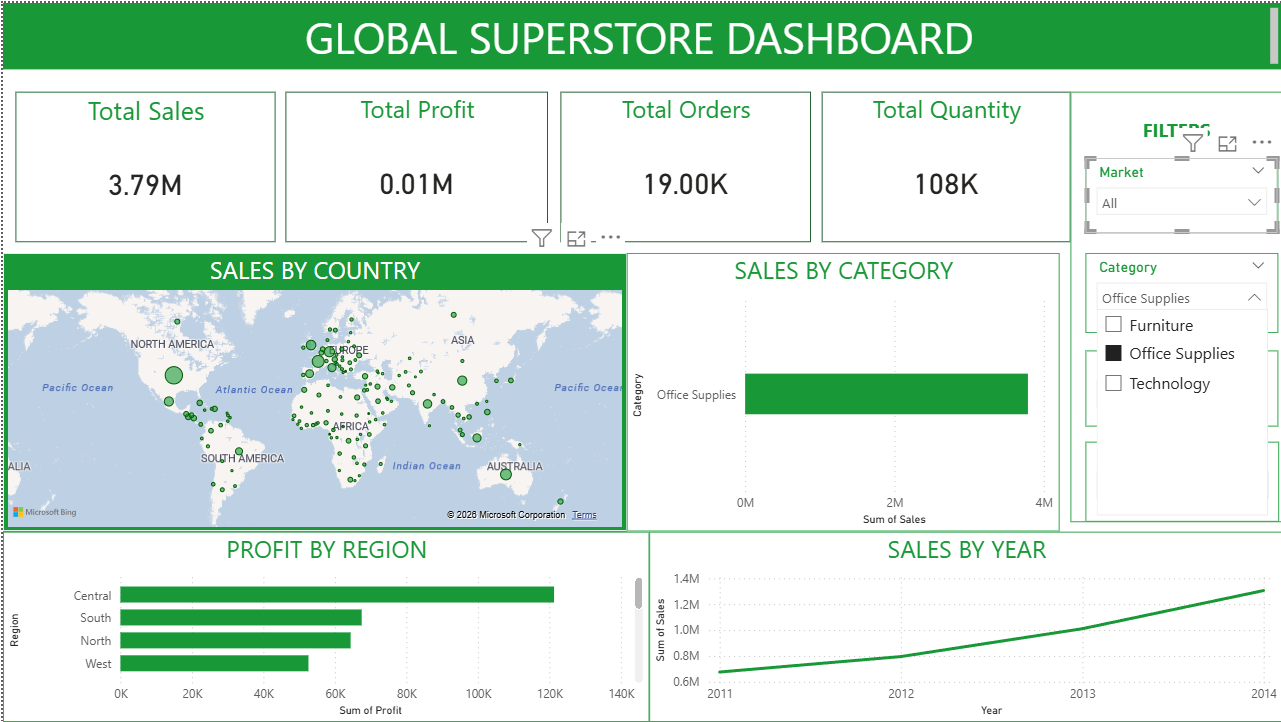

The page's visual inventory and layout, read from the dashboard file:
{"tool":"powerbi","page":{"name":"Page 1","canvas":[1280,720],"ordinal":0},"visuals":[{"type":"card","title":"Total Sales","fields":{"Values":["Sum(Global_Superstore_Cleaned.Sales)"]},"box":[12.5,88.8,260,150],"z":0},{"type":"card","title":"Total Profit","fields":{"Values":["Count(Global_Superstore_Cleaned.Profit)"]},"box":[282.5,88.8,262.5,150],"z":1000},{"type":"card","title":"Total Orders","fields":{"Values":["Count(Global_Superstore_Cleaned.Order ID)"]},"box":[557.5,88.8,250,150],"z":2000},{"type":"card","title":"Total Quantity","fields":{"Values":["Sum(Global_Superstore_Cleaned.Quantity)"]},"box":[818.8,88.8,248.8,150],"z":3000},{"type":"textbox","box":[12.5,303.8,1267.5,87.5],"z":4000},{"type":"textbox","box":[12.5,487.5,1267.5,82.5],"z":5000},{"type":"textbox","box":[0,0,1280,66.2],"z":6000},{"type":"map","title":"SALES BY COUNTRY","fields":{"Category":["Global_Superstore_Cleaned.Country"],"Size":["Sum(Global_Superstore_Cleaned.Sales)"]},"box":[0,250,623.8,278.8],"z":7000},{"type":"textbox","title":"TITLE","box":[1067.5,88.8,212.5,430],"z":8000},{"type":"slicer","fields":{"Values":["Global_Superstore_Cleaned.Market"]},"box":[1082.5,155,192.5,75],"z":9000},{"type":"slicer","fields":{"Values":["Global_Superstore_Cleaned.Category"]},"box":[1082.5,250,192.5,80],"z":10000},{"type":"clusteredBarChart","title":"SALES BY CATEGORY","fields":{"Category":["Global_Superstore_Cleaned.Category"],"Y":["Sum(Global_Superstore_Cleaned.Sales)"]},"box":[623.8,250,432.5,278.8],"z":11000},{"type":"clusteredBarChart","title":"PROFIT BY REGION","fields":{"Category":["Global_Superstore_Cleaned.Region"],"Y":["Sum(Global_Superstore_Cleaned.Profit)"]},"box":[0,528.8,646.2,191.2],"z":12000},{"type":"lineChart","title":"SALES BY YEAR","fields":{"Category":["Global_Superstore_Cleaned.Order Date.Variation.Date Hierarchy.Year"],"Y":["Sum(Global_Superstore_Cleaned.Sales)"]},"box":[646.2,528.8,633.8,191.2],"z":13000},{"type":"slicer","fields":{"Values":["Global_Superstore_Cleaned.Region"]},"box":[1082.5,347.5,192.5,76.2],"z":14000},{"type":"slicer","fields":{"Values":["Global_Superstore_Cleaned.Segment"]},"box":[1082.5,438.8,193.8,80],"z":15000}]}

Visuals, with their boxes in screenshot pixels (x1, y1, x2, y2), scaled from the page's 1280x720 canvas onto the 1281x722 screenshot:
"Total Sales" card: BBox(13, 89, 273, 239)
"Total Profit" card: BBox(283, 89, 545, 239)
"Total Orders" card: BBox(558, 89, 808, 239)
"Total Quantity" card: BBox(819, 89, 1068, 239)
textbox: BBox(13, 305, 1280, 392)
textbox: BBox(13, 489, 1280, 572)
textbox: BBox(0, 0, 1280, 66)
"SALES BY COUNTRY" map: BBox(0, 251, 624, 530)
"TITLE" textbox: BBox(1068, 89, 1280, 520)
slicer - Global_Superstore_Cleaned.Market: BBox(1083, 155, 1276, 231)
slicer - Global_Superstore_Cleaned.Category: BBox(1083, 251, 1276, 331)
"SALES BY CATEGORY" clusteredBarChart: BBox(624, 251, 1057, 530)
"PROFIT BY REGION" clusteredBarChart: BBox(0, 530, 647, 721)
"SALES BY YEAR" lineChart: BBox(647, 530, 1280, 721)
slicer - Global_Superstore_Cleaned.Region: BBox(1083, 348, 1276, 425)
slicer - Global_Superstore_Cleaned.Segment: BBox(1083, 440, 1277, 520)
